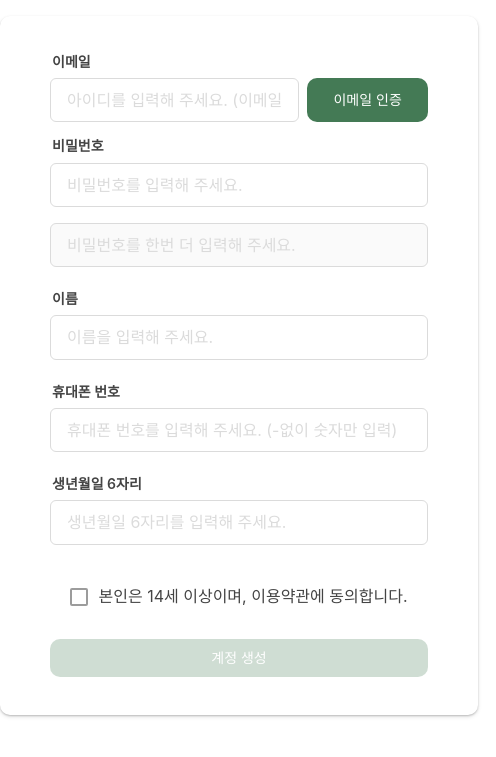
Scenario: JoinForm 컴포넌트 테스트 › 이메일 › 올바른 형식의 이메일을 입력하지 않고 이메일 인풋에서 포커스가 벗어나면 화면에 에러 메시지가 보여야 한다.
This screenshot has width=496, height=757.
Type "example" into the field labelled "이메일".
click(175, 100); type("example")  # box [50,78,299,122]
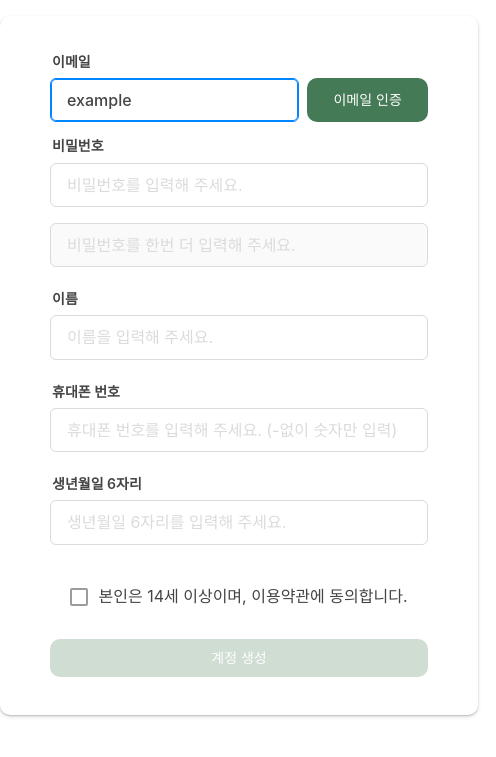
Click the form named "join".
click(29, 365)  # box [0,16,478,715]
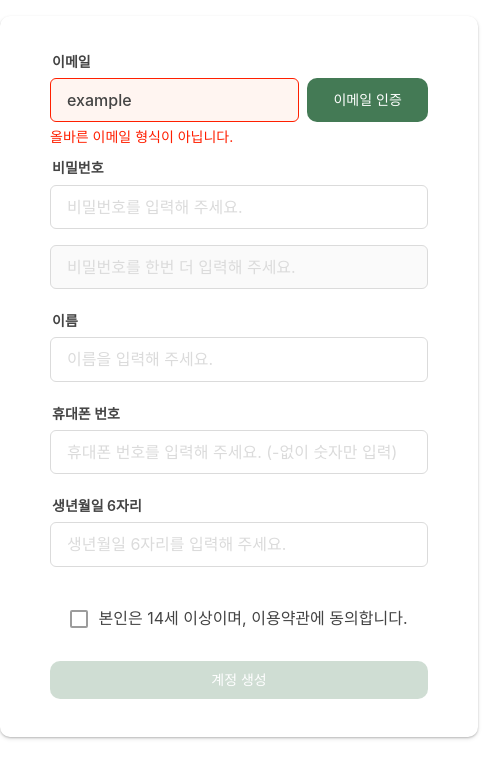
Check: the text "올바른 이메일 형식이 아닙니다." is shown, box [50,128,233,146]
